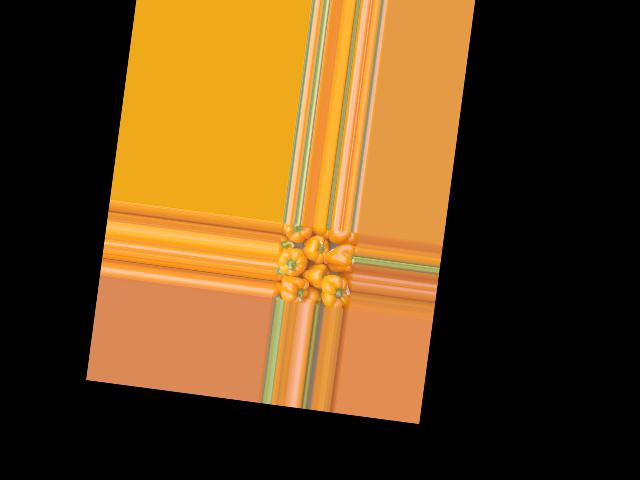bell_pepper: (327, 229, 359, 246)
